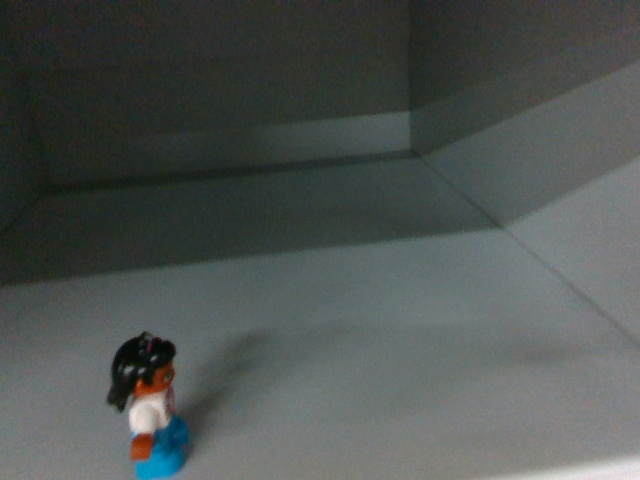people: (104, 332, 196, 480)
